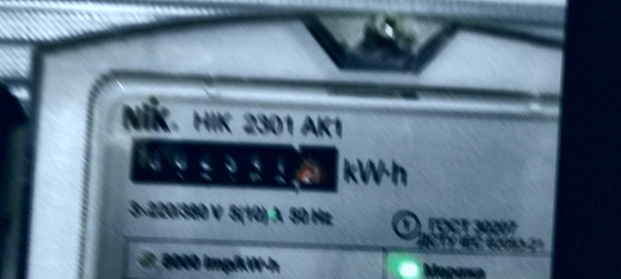0: (144, 144, 164, 171), (172, 143, 188, 170)
1: (272, 146, 287, 174)
2: (196, 144, 214, 170)
4: (248, 146, 263, 169)
5: (221, 144, 241, 173)
6: (299, 165, 315, 183)
screen: (117, 121, 353, 204)
